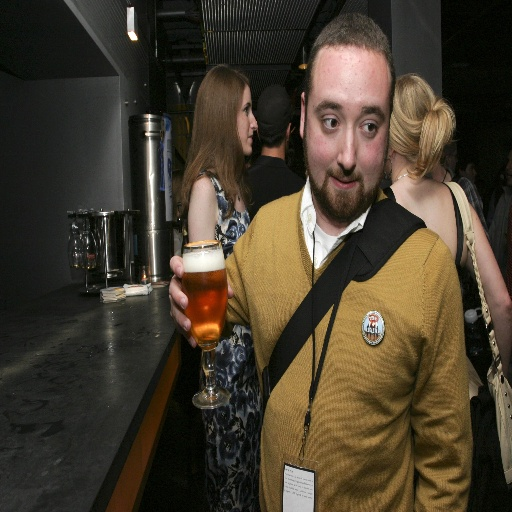hand: (416, 233, 471, 511), (166, 252, 233, 353)
